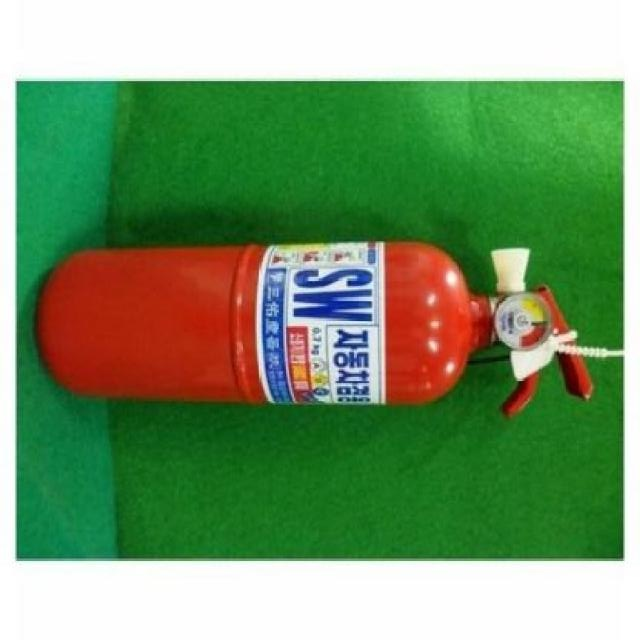fire extinguisher: (34, 240, 594, 420)
